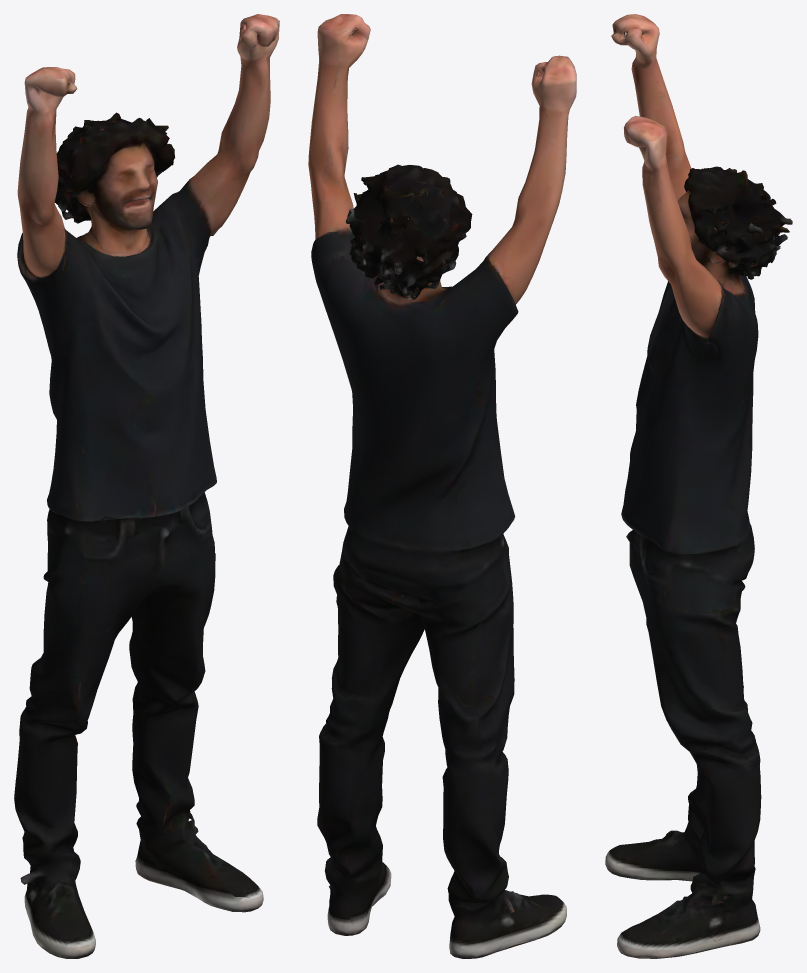
File: fan-arms-up-s1.glb
3 renders of one model, left to right at view 1: azimuth 30°, elevation 25°; view 2: azimuth 150°, elevation 25°; view 3: azimuth 270°, elevation 25°, orthographic. The views are drawn at different scales.
Visible parts, largest first — view 1: geometry_0; view 2: geometry_0; view 3: geometry_0.
Boxes of the visible parts, x1,y1,x2,y2 form: geometry_0: [14, 14, 279, 958]; geometry_0: [308, 14, 576, 958]; geometry_0: [605, 14, 792, 958].
Bounding box in the file's own units: 0.3052 × 1 × 0.2016.
1 material, 1 textured.
